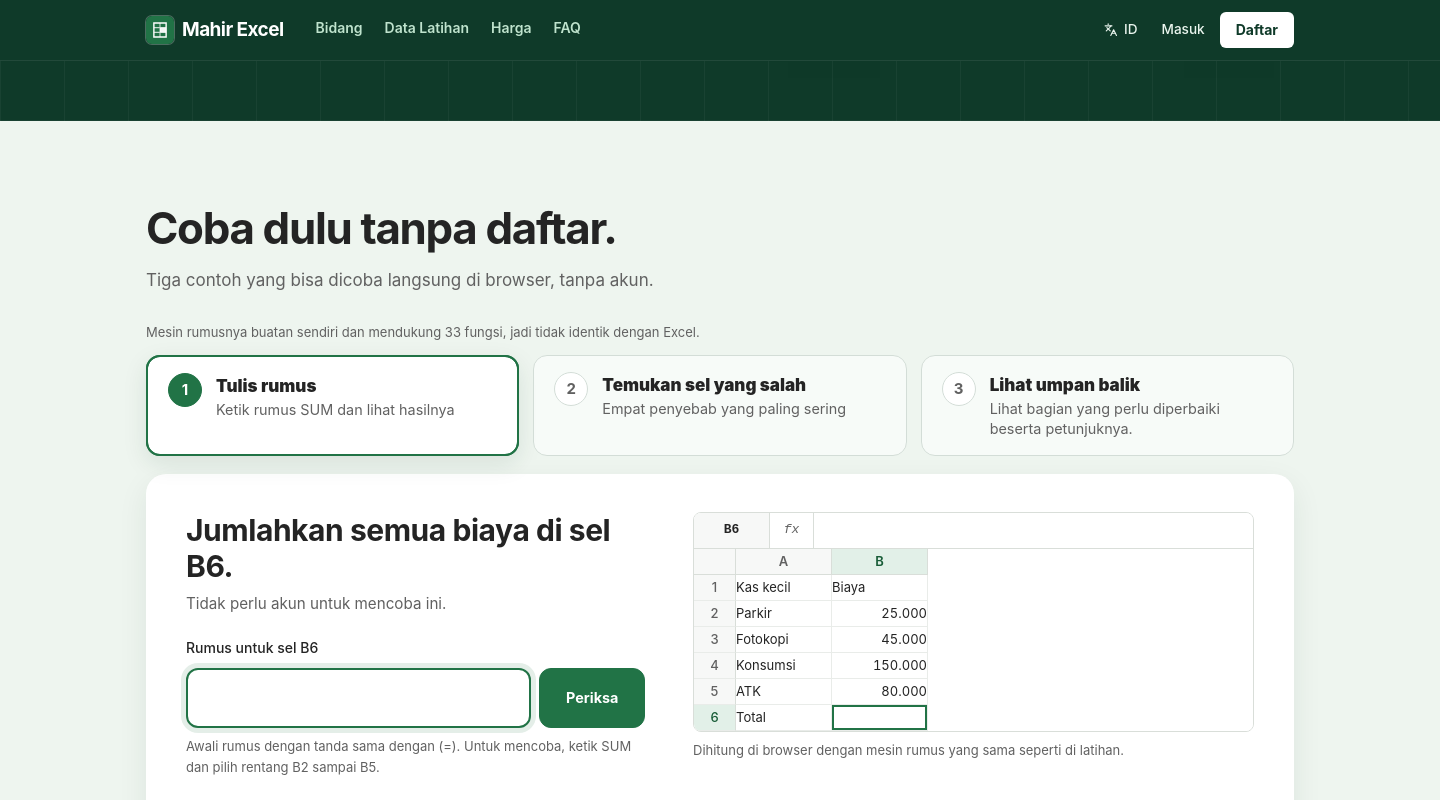
Test case: susunan beranda yang baru › tiga demo menjadi satu bagian bertab, dan tab bisa dipindah dengan panah
(page scrolled)
Expected: the heading "Jumlahkan semua biaya di sel B6." is shown, x1=186 y1=512 x2=645 y2=584
Expected: the heading "Periksa kembali hasil rumusmu" is not shown
Press Arrowright
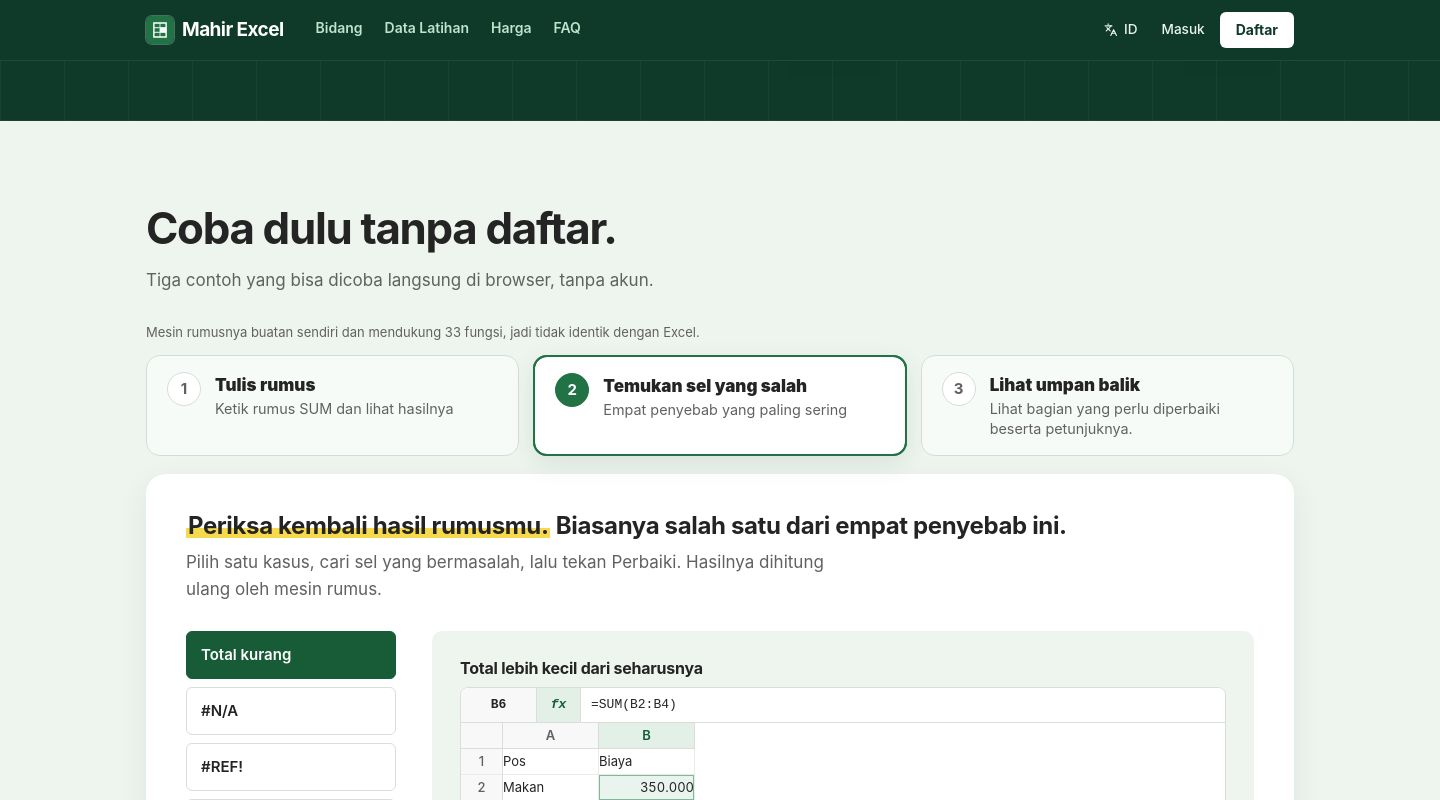
Result: the heading "Periksa kembali hasil rumusmu" is shown at x1=186 y1=511 x2=1067 y2=540
Click the tab "Lihat umpan balik" at x=1107, y=405, box x1=921 y1=355 x2=1294 y2=456
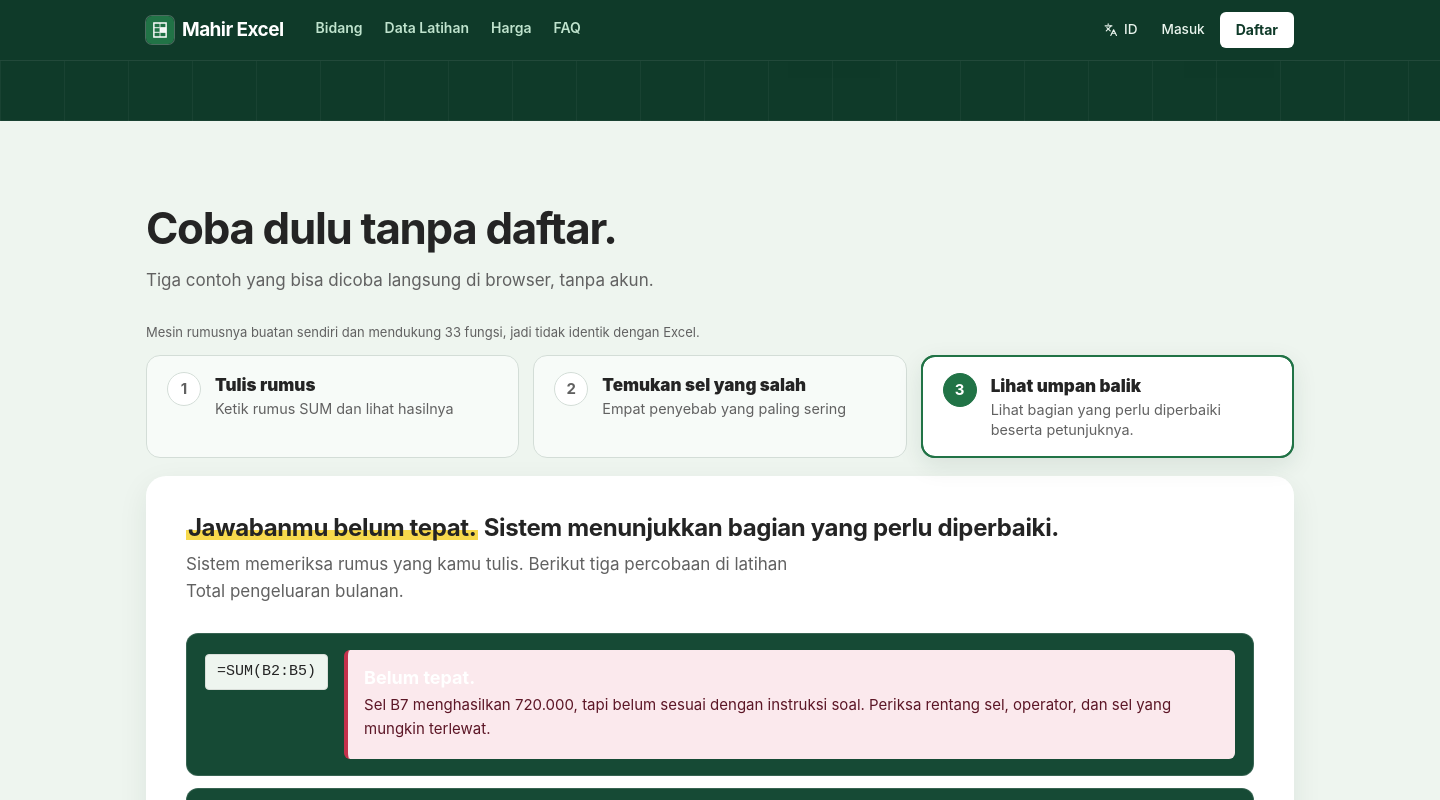
Result: the heading "Jawabanmu belum tepat" is shown at x1=186 y1=513 x2=1059 y2=542
Result: the text "=SUM(B2:B5)" is shown at x1=205 y1=654 x2=328 y2=690
